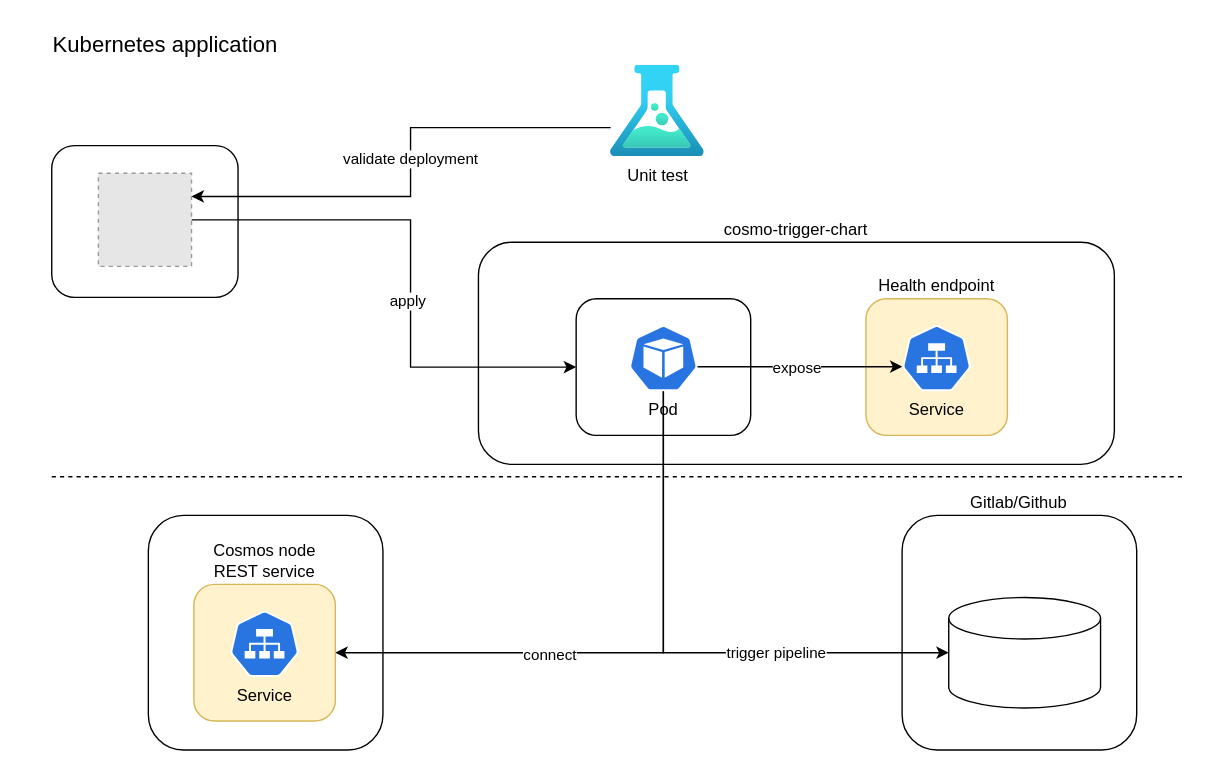
Image size: 1209x774. Some labels were removed from this diagram. Grey dashed boxes stand in for pictures. Here are the shapes that lost their labels. From the top down, the box of each, then its label:
(50, 144, 238, 297): Deployment configuration
(575, 297, 751, 435): Deployment
(147, 514, 383, 750): Separate cosmos node chart
(947, 596, 1101, 708): Target Cosmos node deployment repo
